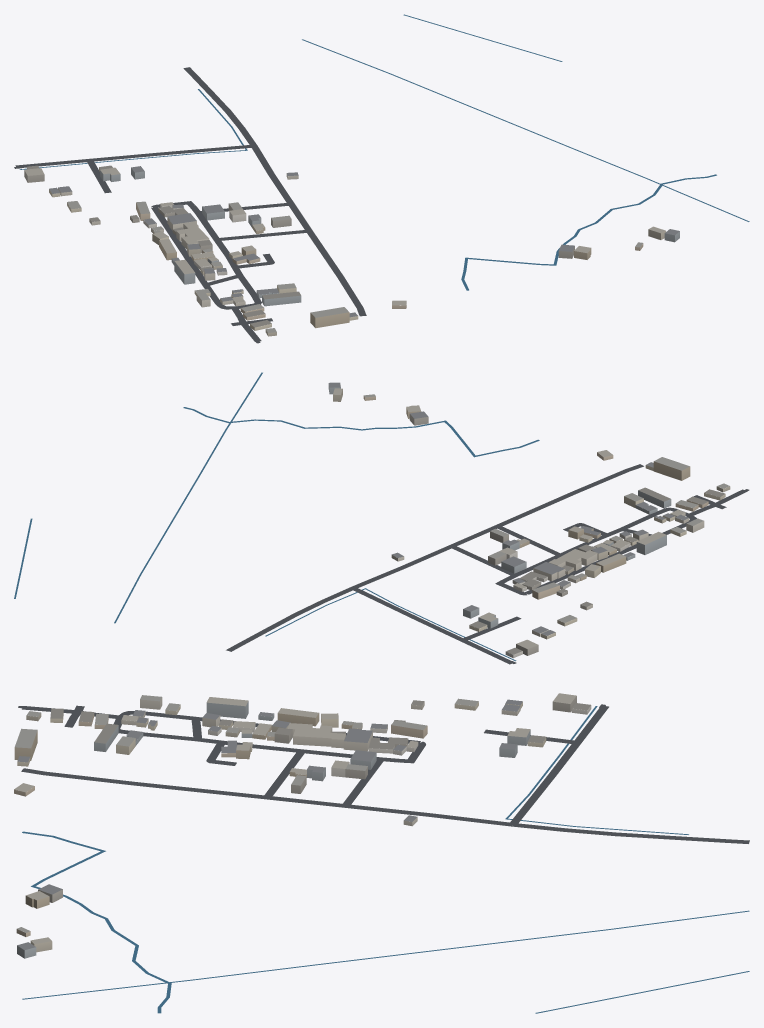
3 views of the same model, one above another, from view 1: azimuth 30°, elevation 25°; view 2: azimuth 150°, elevation 25°; view 3: azimuth 270°, elevation 25° (orthographic). The views are drawn at different scales.
Visible parts, largest first — view 1: roads, buildings_roofs, buildings_walls, water; view 2: buildings_walls, roads, buildings_roofs, water; view 3: buildings_walls, buildings_roofs, roads, water.
Boxes of the visible parts, left/top/right/bottom form: roads: left=14, top=67, right=366, bottom=343; buildings_roofs: left=24, top=165, right=679, bottom=332; buildings_walls: left=24, top=167, right=679, bottom=336; water: left=19, top=14, right=749, bottom=290; buildings_walls: left=328, top=383, right=730, bottom=658; roads: left=226, top=464, right=749, bottom=664; buildings_roofs: left=329, top=382, right=729, bottom=654; water: left=14, top=372, right=539, bottom=661; buildings_walls: left=14, top=696, right=591, bottom=958; buildings_roofs: left=14, top=693, right=590, bottom=950; roads: left=18, top=704, right=749, bottom=843; water: left=22, top=706, right=749, bottom=1013.
Size of the model in its own units: 508 by 9.6 by 506.
